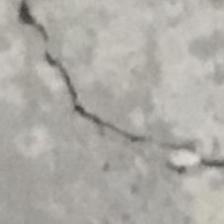Crack: (16, 1, 216, 175)
